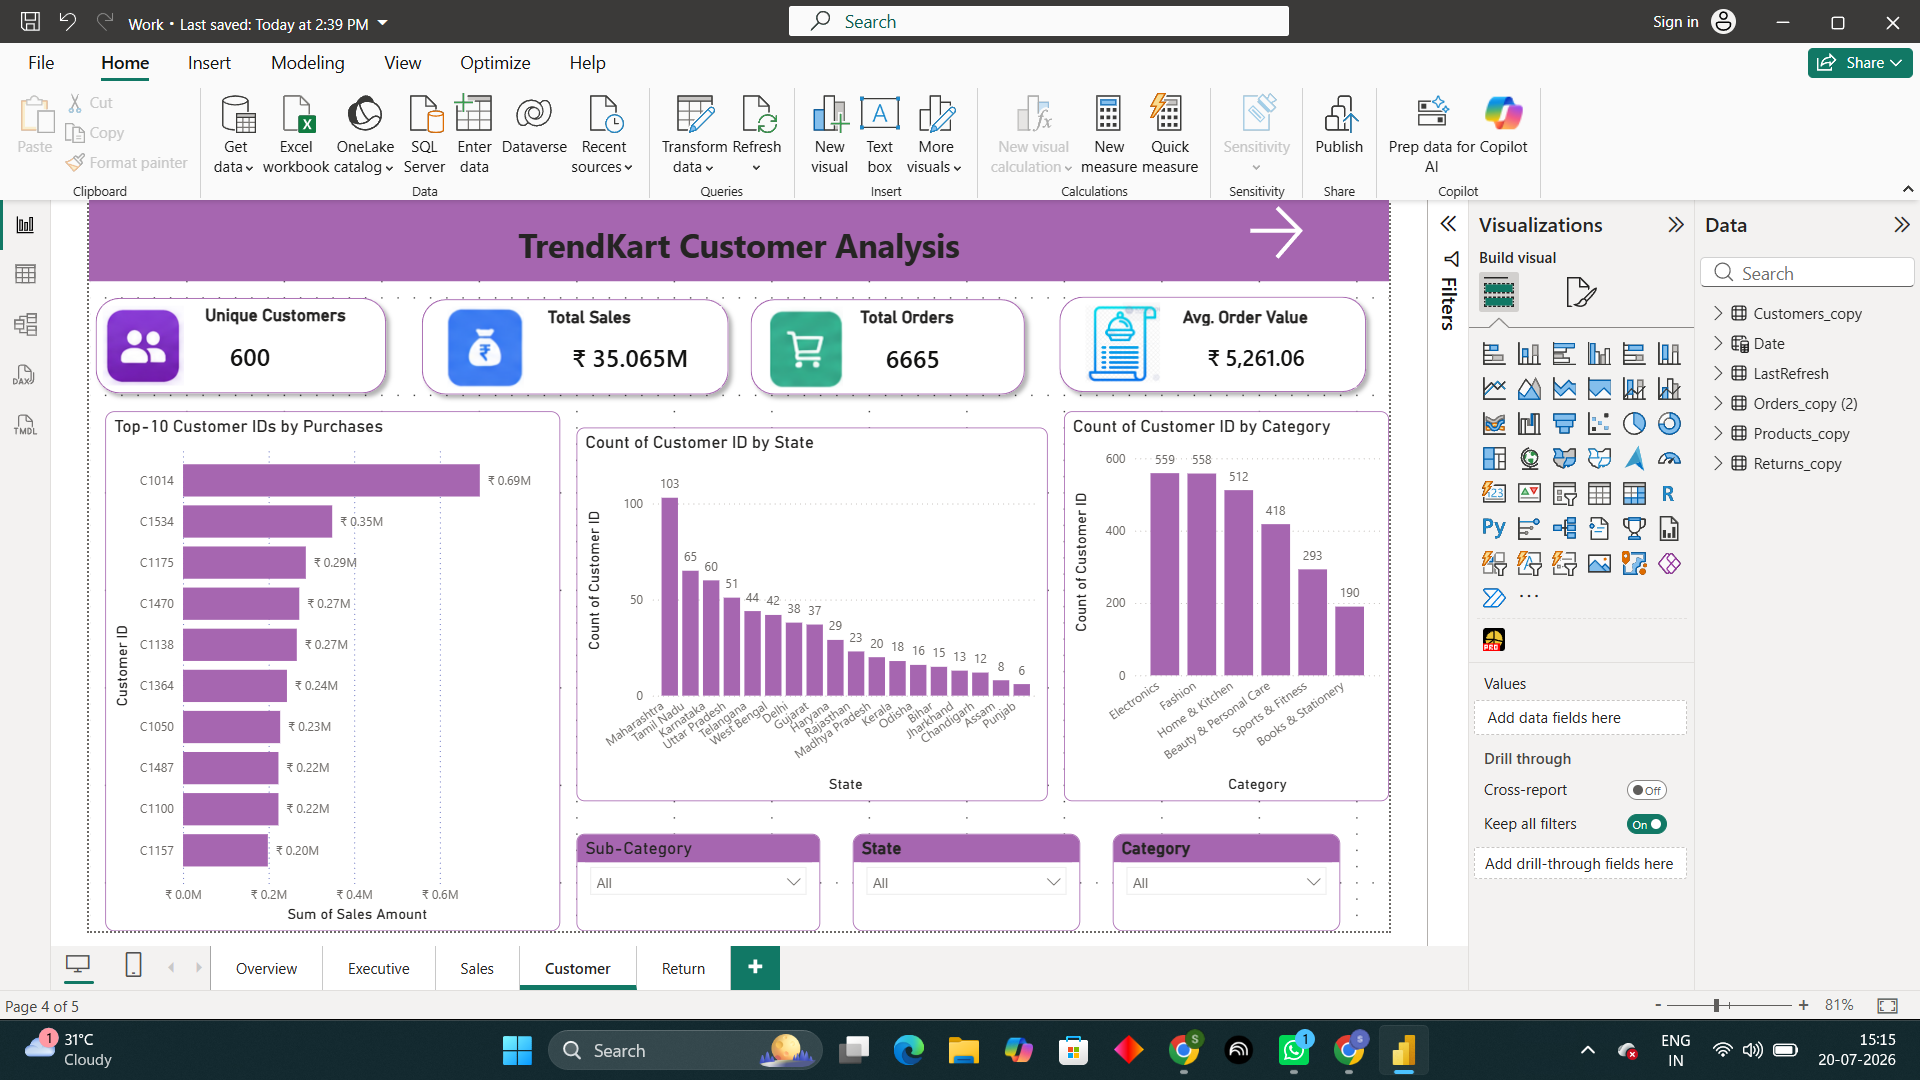

The page's visual inventory and layout, read from the dashboard file:
{"tool":"powerbi","page":{"name":"Customer","canvas":[1280,720],"ordinal":3},"visuals":[{"type":"textbox","box":[0,0,1280,80],"z":0},{"type":"shape","box":[-2,87.6,304,112],"z":1000},{"type":"cardVisual","title":"Unique Customers","fields":{"Data":["CountNonNull(Customers_copy.Customer ID)"]},"box":[110,103.6,160,80],"z":2000},{"type":"image","box":[14,103.6,80,80],"z":3000},{"type":"shape","box":[319,88.9,320,112],"z":4000},{"type":"cardVisual","title":"Total Sales","fields":{"Data":["Sum(Orders_copy (2).Sales Amount)"]},"box":[447,104.9,176,80],"z":5000},{"type":"image","box":[351,104.9,80,80],"z":6000},{"type":"clusteredColumnChart","fields":{"Category":["Customers_copy.State"],"Y":["Count(Orders_copy (2).Customer ID)"]},"box":[480,224,464,368],"z":7000},{"type":"clusteredBarChart","title":"Top-10 Customer IDs by Purchases","fields":{"Y":["Sum(Orders_copy (2).Sales Amount)"],"Category":["Orders_copy (2).Customer ID"]},"box":[16,208,448,512],"z":8000},{"type":"shape","box":[642.5,89.1,288,112],"z":9000},{"type":"image","box":[658.5,105.1,96,80],"z":10000},{"type":"cardVisual","title":"Total Orders","fields":{"Data":["CountNonNull(Orders_copy (2).Order ID)"]},"box":[754.5,105.1,144,80],"z":11000},{"type":"slicer","title":"Sub-Category","fields":{"Values":["Products_copy.Sub-Category"]},"box":[480,624,240,96],"z":12000},{"type":"slicer","title":"State","fields":{"Values":["Customers_copy.State"]},"box":[752,624,224,96],"z":13000},{"type":"columnChart","fields":{"Category":["Products_copy.Category"],"Y":["Count(Orders_copy (2).Customer ID)"]},"box":[960,208,320,384],"z":14000},{"type":"slicer","title":"Category","fields":{"Values":["Products_copy.Category"]},"box":[1008,624,224,96],"z":15000},{"type":"shape","box":[946.7,86.6,320,112],"z":16000},{"type":"image","box":[969.5,101.3,96,80],"z":17000},{"type":"cardVisual","title":"Avg. Order Value","fields":{"Data":["Orders_copy (2).AOV"]},"box":[1072.4,105.2,176,80],"z":18000},{"type":"actionButton","box":[1136,0,96,64],"z":19000}]}

Visuals, with their boxes on the page's 1280x720 design canvas (x1, y1, x2, y2). These are canvas units, not pixel positions in the 1920x1080 screenshot, which may show the page scaled, cropped or inside an application window:
textbox: 0:0:1280:80
shape: -2:88:302:200
"Unique Customers" cardVisual: 110:104:270:184
image: 14:104:94:184
shape: 319:89:639:201
"Total Sales" cardVisual: 447:105:623:185
image: 351:105:431:185
clusteredColumnChart - Customers_copy.State x Count(Orders_copy (2).Customer ID): 480:224:944:592
"Top-10 Customer IDs by Purchases" clusteredBarChart: 16:208:464:720
shape: 642:89:930:201
image: 658:105:754:185
"Total Orders" cardVisual: 754:105:898:185
"Sub-Category" slicer: 480:624:720:720
"State" slicer: 752:624:976:720
columnChart - Products_copy.Category x Count(Orders_copy (2).Customer ID): 960:208:1280:592
"Category" slicer: 1008:624:1232:720
shape: 947:87:1267:199
image: 970:101:1066:181
"Avg. Order Value" cardVisual: 1072:105:1248:185
actionButton: 1136:0:1232:64
